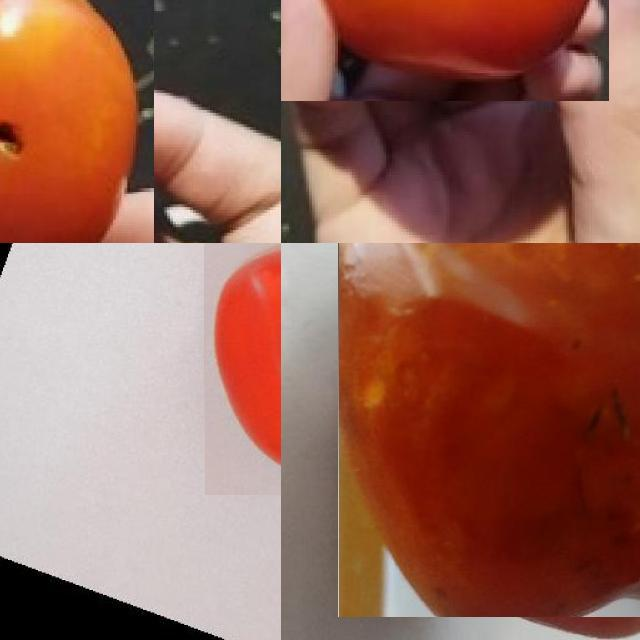Fresh Tomato: (281, 0, 609, 100), (204, 243, 281, 495)
Rotten Tomato: (337, 243, 640, 617), (0, 0, 154, 243)
